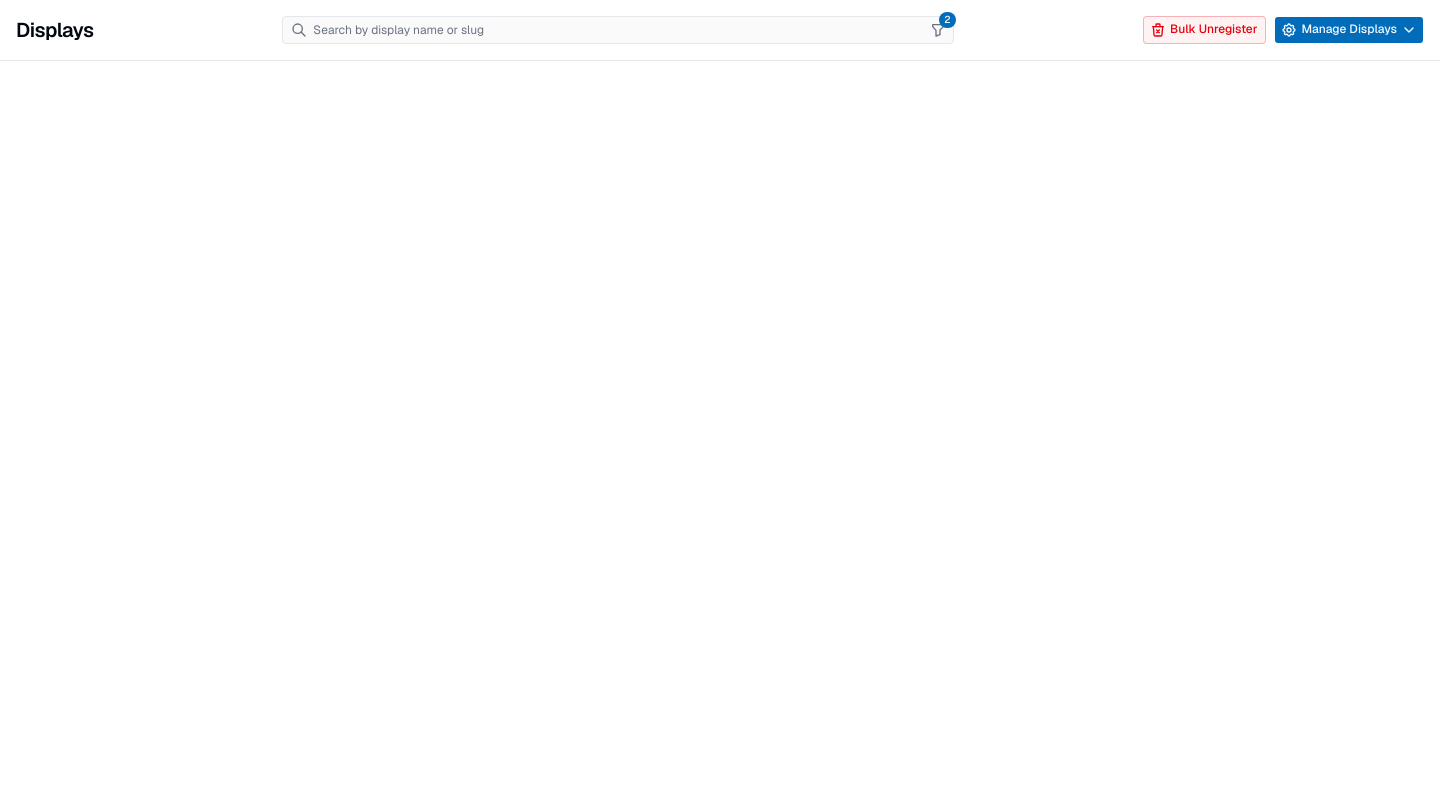
DisplaysToolbar › hides output filters for users without display create permission
Click the button named "Filter displays". click: click(938, 30)
box: [926,18,950,42]
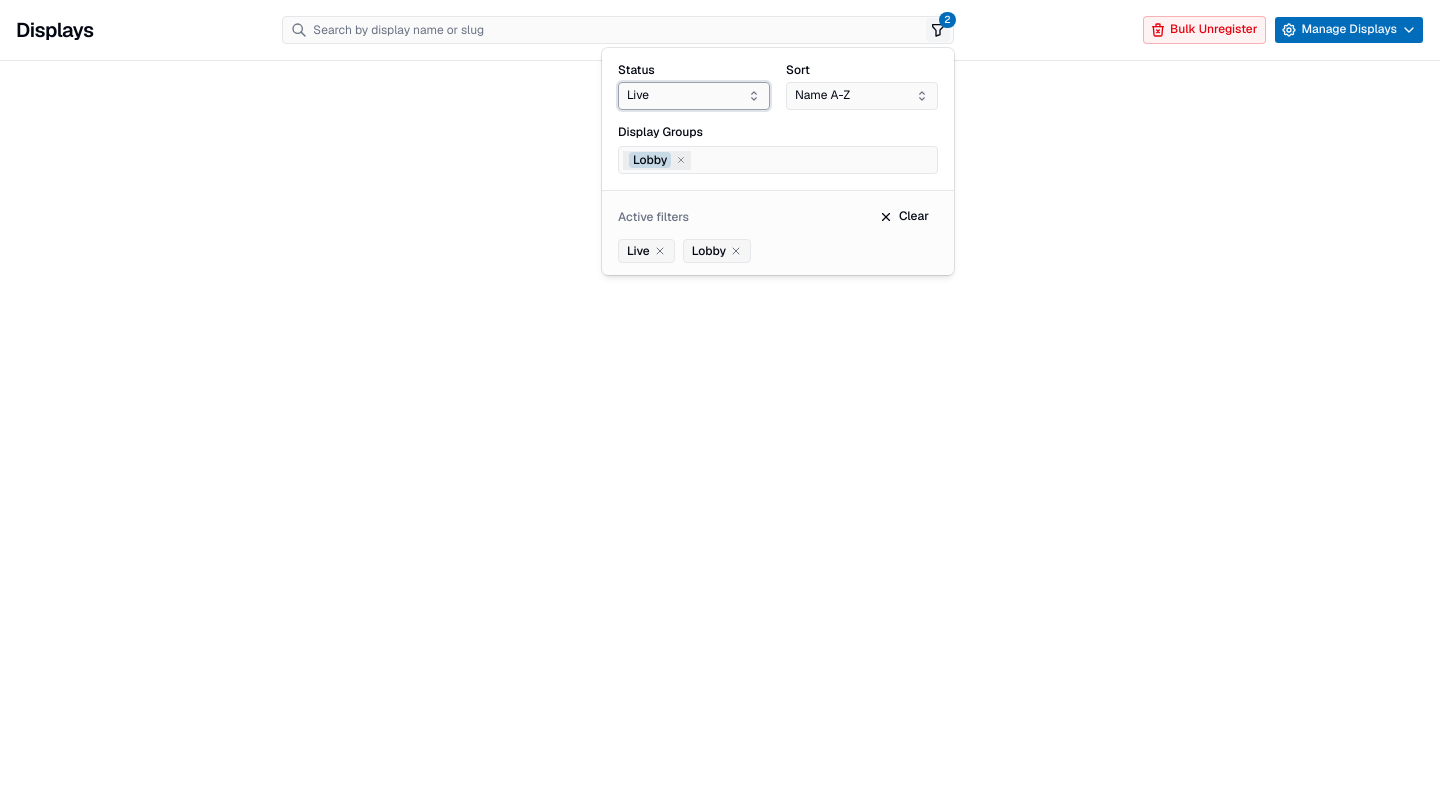
Expected: the text "Status" is shown, [618,62,655,78]
Expected: the text "Display Groups" is shown, [618,124,703,140]
